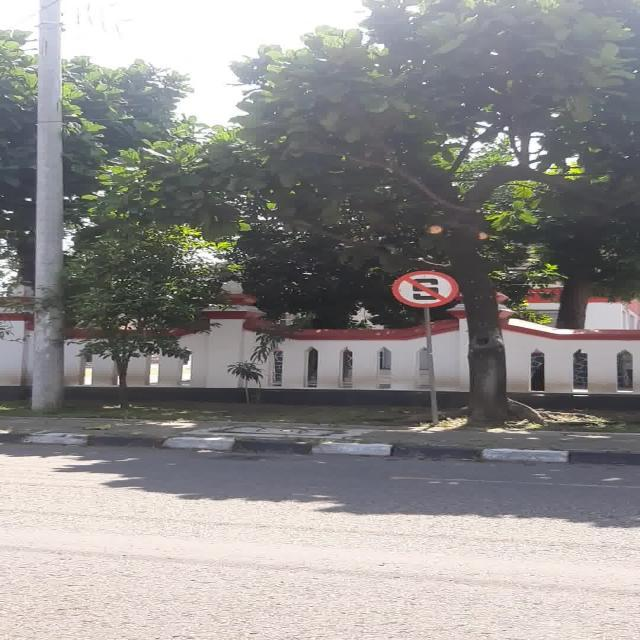Dilarang Berhenti: (392, 271, 458, 307)
